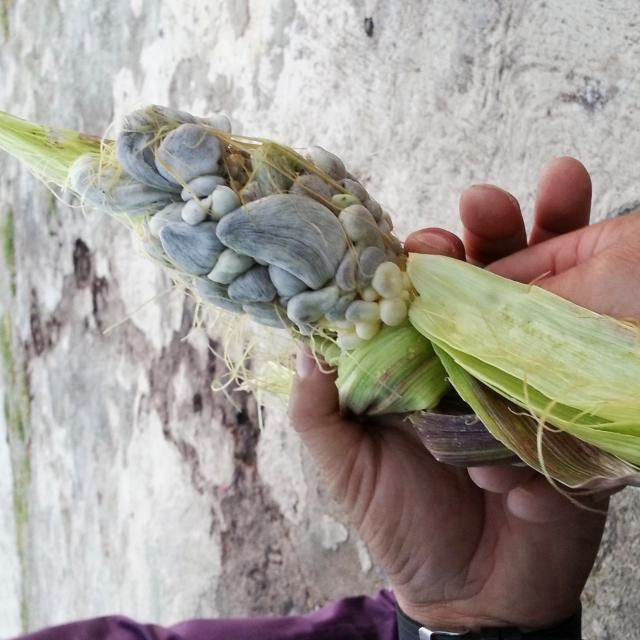Leaf_Scald: (49, 78, 428, 366)
